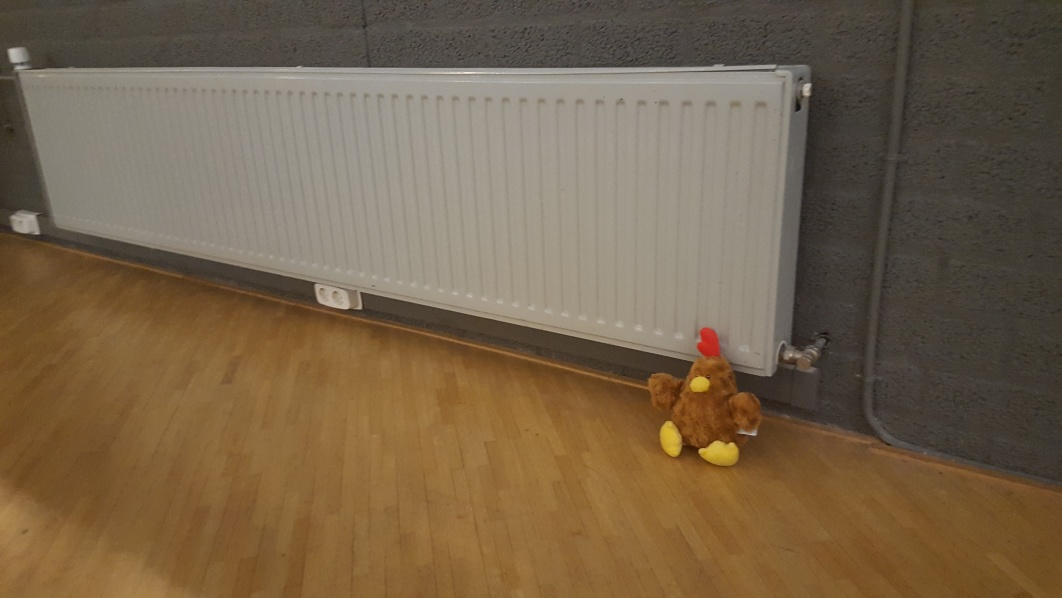chicken: (643, 327, 761, 472)
